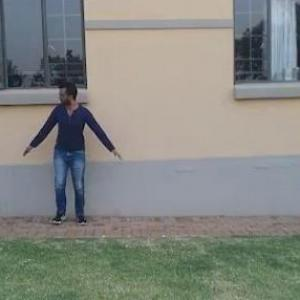land: (29, 74, 129, 242)
